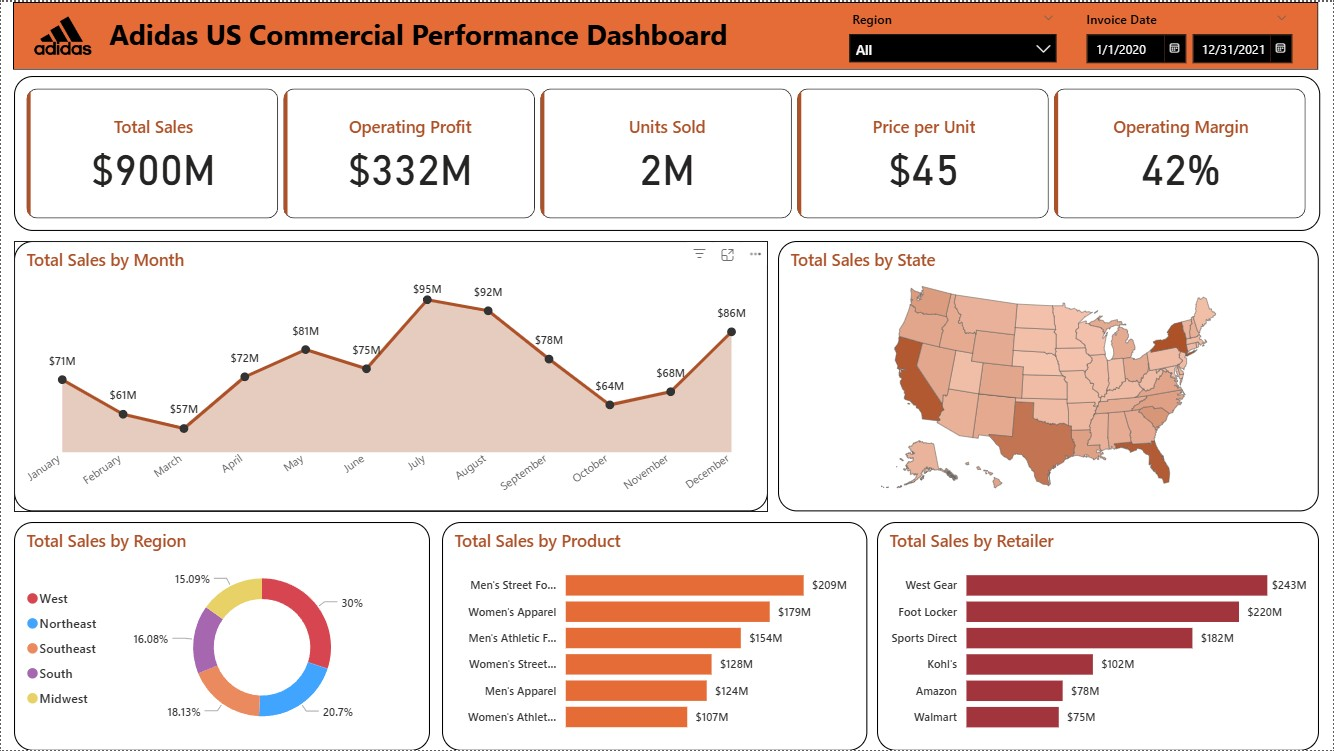

The page's visual inventory and layout, read from the dashboard file:
{"tool":"powerbi","page":{"name":"Adidas Sales Analysis","canvas":[1280,720],"ordinal":0},"visuals":[{"type":"shape","box":[11.8,0,1255.4,64.9],"z":0},{"type":"textbox","box":[98.6,7.6,610.4,53.1],"z":1000},{"type":"cardVisual","fields":{"Data":["Sum(Data Sales Adidas.Total Sales)","Sum(Data Sales Adidas.Operating Profit)","Sum(Data Sales Adidas.Units Sold)","Avg(Data Sales Adidas.Price per Unit)","Avg(Data Sales Adidas.Operating Margin)"]},"box":[12.1,70.7,1255.8,149.2],"z":2000},{"type":"areaChart","title":"Total  Sales by Month","fields":{"Category":["Data Sales Adidas.Invoice Date.Variation.Date Hierarchy.Month"],"Y":["Sum(Data Sales Adidas.Total Sales)"]},"box":[12.4,229.8,725.3,260.1],"z":3000},{"type":"shapeMap","title":"Total Sales by State","fields":{"Category":["Data Sales Adidas.State"],"Value":["Sum(Data Sales Adidas.Total Sales)"]},"box":[747.4,229.8,520.3,260.1],"z":4000},{"type":"donutChart","title":"Total Sales by Region","fields":{"Category":["Data Sales Adidas.Region"],"Y":["Sum(Data Sales Adidas.Total Sales)"]},"box":[12.4,499.6,400,220],"z":5000},{"type":"barChart","title":"Total Sales by Product","fields":{"Category":["Data Sales Adidas.Product"],"Y":["Sum(Data Sales Adidas.Total Sales)"]},"box":[424.1,500,408.9,220],"z":6000},{"type":"barChart","title":"Total Sales by Retailer","fields":{"Y":["Sum(Data Sales Adidas.Total Sales)"],"Category":["Data Sales Adidas.Retailer"]},"box":[842.3,499.6,425.3,220.2],"z":7000},{"type":"slicer","fields":{"Values":["Data Sales Adidas.Region"]},"box":[806,2.5,219.2,59.9],"z":8000},{"type":"slicer","fields":{"Values":["Data Sales Adidas.Invoice Date"]},"box":[1031.1,2.5,218.4,59],"z":9000},{"type":"image","box":[27,2.5,64.9,58.2],"z":10000}]}

Visuals, with their boxes in screenshot pixels (x1, y1, x2, y2), scaled from the page's 1280x720 canvas onto the 1334x751 screenshot:
shape: {"left": 12, "top": 0, "right": 1321, "bottom": 68}
textbox: {"left": 103, "top": 8, "right": 739, "bottom": 63}
cardVisual - Sum(Data Sales Adidas.Total Sales) x Sum(Data Sales Adidas.Operating Profit): {"left": 13, "top": 74, "right": 1321, "bottom": 229}
"Total  Sales by Month" areaChart: {"left": 13, "top": 240, "right": 769, "bottom": 511}
"Total Sales by State" shapeMap: {"left": 779, "top": 240, "right": 1321, "bottom": 511}
"Total Sales by Region" donutChart: {"left": 13, "top": 521, "right": 430, "bottom": 750}
"Total Sales by Product" barChart: {"left": 442, "top": 522, "right": 868, "bottom": 750}
"Total Sales by Retailer" barChart: {"left": 878, "top": 521, "right": 1321, "bottom": 750}
slicer - Data Sales Adidas.Region: {"left": 840, "top": 3, "right": 1068, "bottom": 65}
slicer - Data Sales Adidas.Invoice Date: {"left": 1075, "top": 3, "right": 1302, "bottom": 64}
image: {"left": 28, "top": 3, "right": 96, "bottom": 63}
